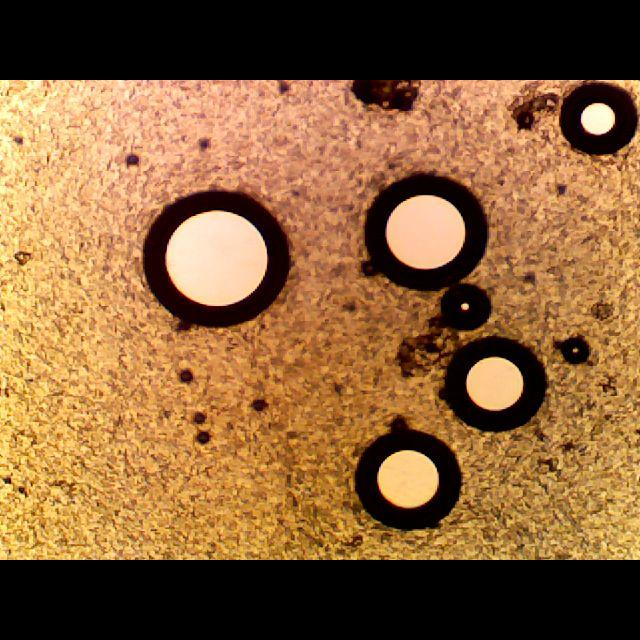microbeads: (136, 194, 294, 332), (367, 178, 491, 288), (346, 431, 466, 531), (440, 332, 550, 426), (558, 80, 640, 156)
